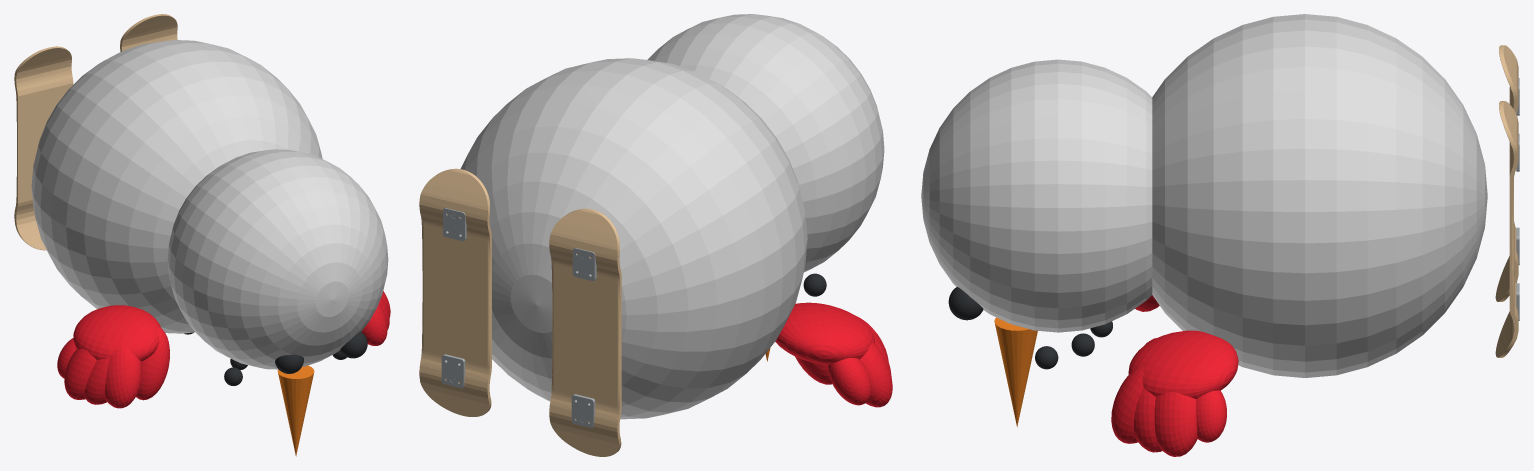
Rendered from tinker.obj.
3 renders of one model, left to right at view 1: azimuth 30°, elevation 25°; view 2: azimuth 150°, elevation 25°; view 3: azimuth 270°, elevation 25°, orthographic. The views are drawn at different scales.
Visible parts, largest first — view 1: group_0_16448250, group_0_15277357, group_0_14860437, group_0_16089887, group_0_2829873; view 2: group_0_16448250, group_0_14860437, group_0_15277357, group_0_10988977; view 3: group_0_16448250, group_0_15277357, group_0_14860437, group_0_16089887, group_0_2829873.
Boxes of the visible parts, box(x1,y1,x2,y2) form: group_0_16448250: box(31, 40, 388, 369); group_0_15277357: box(57, 291, 390, 408); group_0_14860437: box(14, 14, 177, 250); group_0_16089887: box(277, 365, 314, 456); group_0_2829873: box(184, 331, 367, 385); group_0_16448250: box(460, 14, 884, 419); group_0_14860437: box(419, 168, 621, 456); group_0_15277357: box(775, 302, 892, 407); group_0_10988977: box(441, 208, 596, 427); group_0_16448250: box(921, 14, 1487, 377); group_0_15277357: box(1111, 295, 1238, 456); group_0_14860437: box(1495, 45, 1518, 357); group_0_16089887: box(994, 317, 1037, 427); group_0_2829873: box(948, 287, 1112, 369).
Bounding box in the file's own units: 50.47 × 47.85 × 65.5.
